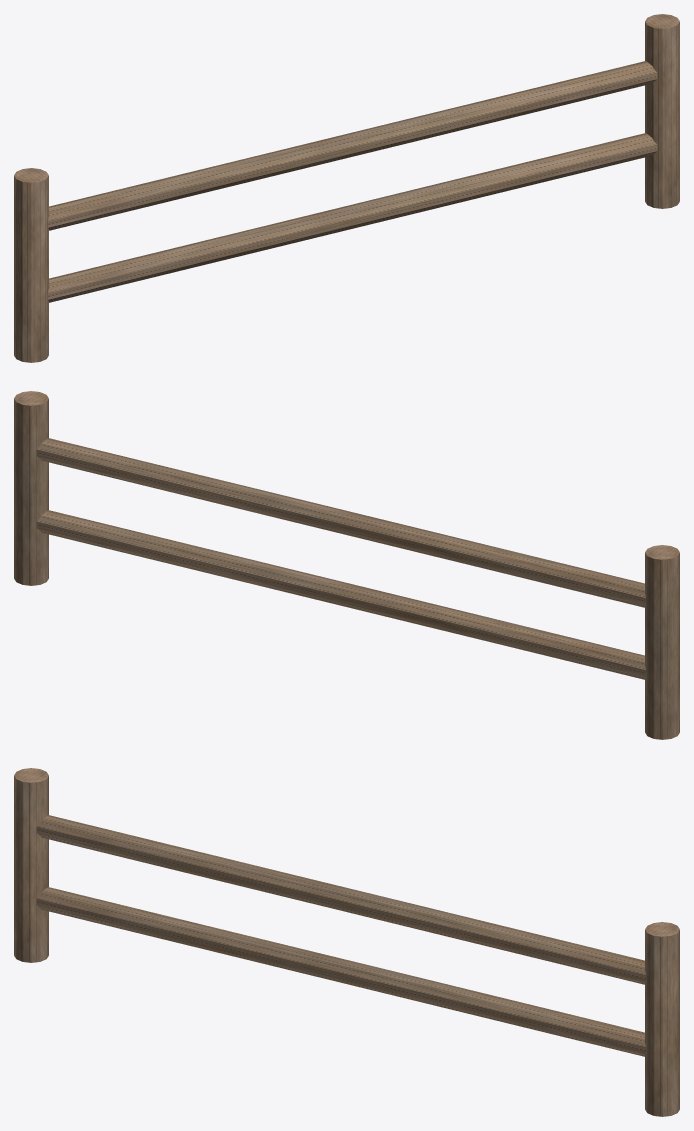
The model's file is split-rail-fence.glb.
3 renders of one model, top to bottom at view 1: azimuth 30°, elevation 25°; view 2: azimuth 150°, elevation 25°; view 3: azimuth 330°, elevation 25°, orthographic.
Visible parts, largest first — view 1: Fence 0 rail 0.42, Fence 0 rail 0.92, Fence 0 post -2.2916666666666665, Fence 0 post 2.2916666666666665; view 2: Fence 0 rail 0.42, Fence 0 rail 0.92, Fence 0 post -2.2916666666666665, Fence 0 post 2.2916666666666665; view 3: Fence 0 rail 0.42, Fence 0 rail 0.92, Fence 0 post 2.2916666666666665, Fence 0 post -2.2916666666666665.
Boxes of the visible parts, box(x1,y1,x2,y2) form: Fence 0 rail 0.42: box(48, 133, 657, 302); Fence 0 rail 0.92: box(48, 61, 657, 230); Fence 0 post -2.2916666666666665: box(14, 168, 48, 362); Fence 0 post 2.2916666666666665: box(645, 14, 679, 208); Fence 0 rail 0.42: box(36, 510, 645, 679); Fence 0 rail 0.92: box(36, 438, 645, 607); Fence 0 post -2.2916666666666665: box(645, 545, 679, 739); Fence 0 post 2.2916666666666665: box(14, 391, 48, 585); Fence 0 rail 0.42: box(36, 887, 645, 1056); Fence 0 rail 0.92: box(36, 815, 645, 984); Fence 0 post 2.2916666666666665: box(645, 922, 679, 1116); Fence 0 post -2.2916666666666665: box(14, 768, 48, 962).
Bounding box in the file's own units: 4.8 × 1.25 × 0.22.
Materials: 1 (1 with a texture image).
